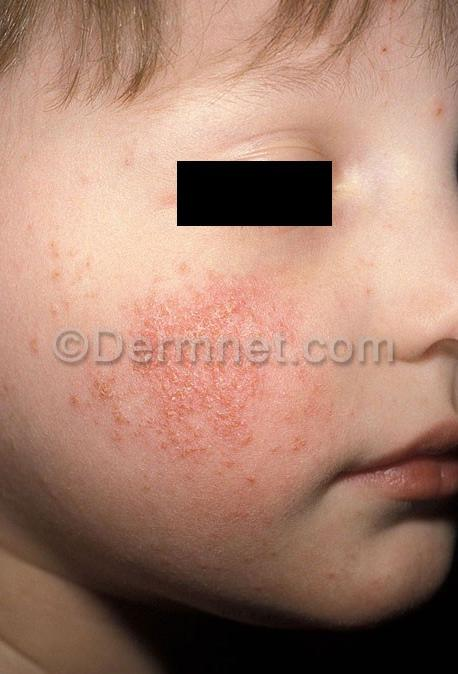edema 2: (15, 230, 332, 497)
